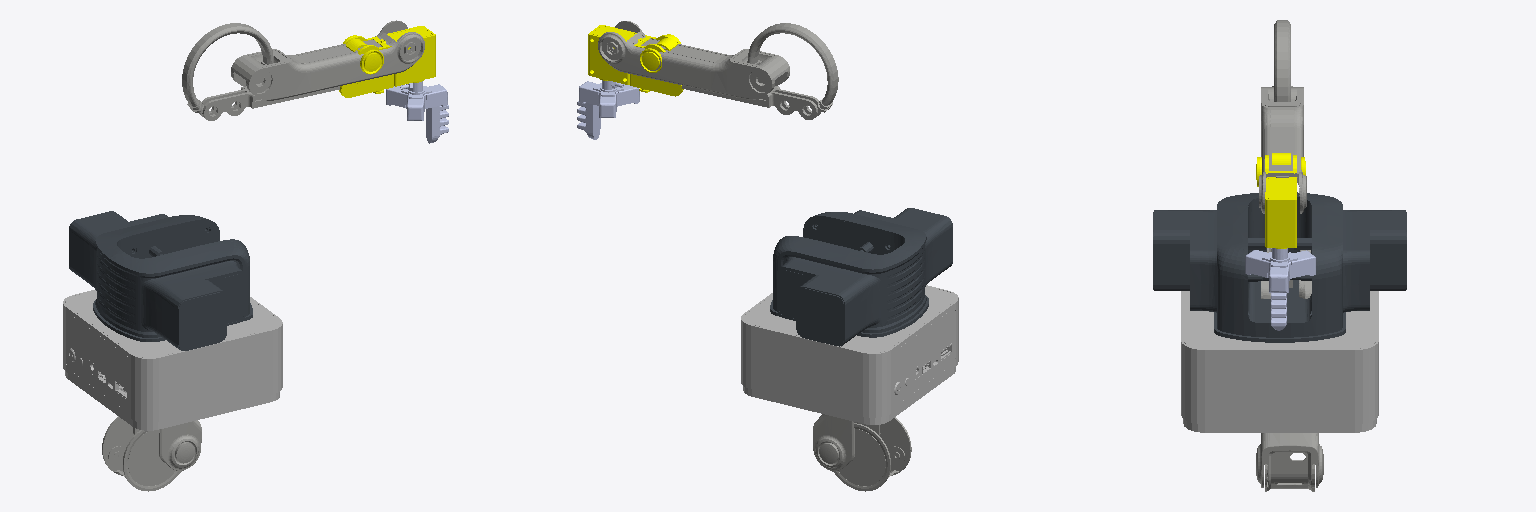
URDF robot description (dobot_magician_lite):
<?xml version="1.0" encoding="utf-8"?>
<!-- This URDF was automatically created by SolidWorks to URDF Exporter! Originally created by [author] ([email redacted]) 
     Commit Version: 1.6.0-4-g7f85cfe  Build Version: 1.6.7995.38578
     For more information, please see http://wiki.ros.org/sw_urdf_exporter -->
<robot
  name="dobot_magician_lite">

  <link name="world"/>
  <joint name="base_joint" type="fixed">
  	<parent link="world"/>
	  <child link="base_link"/>
	  <origin rpy="0 0 0" xyz="0.0 0.0 0.17"/>
  </joint>

  <link
    name="base_link">
    <inertial>
      <origin
        xyz="1.5965E-05 -0.000104 0.027713"
        rpy="0 0 0" />
      <mass
        value="0.39676" />
      <inertia
        ixx="0.00094204"
        ixy="2.2751E-07"
        ixz="2.492E-06"
        iyy="0.00091408"
        iyz="-2.4031E-07"
        izz="0.0017912" />
    </inertial>
    <visual>
      <origin
        xyz="0 0 0"
        rpy="0 0 0" />
      <geometry>
        <mesh
          filename="package://dobot_magician_lite/meshes/base_link.STL" />
      </geometry>
      <material
        name="">
        <color
          rgba="0.75294 0.75294 0.75294 1" />
      </material>
    </visual>
    <collision>
      <origin
        xyz="0 0 0"
        rpy="0 0 0" />
      <geometry>
        <mesh
          filename="package://dobot_magician_lite/meshes/base_link.STL" />
      </geometry>
    </collision>
  </link>
  <link
    name="link_1">
    <inertial>
      <origin
        xyz="-0.00632806257105688 -3.31801388174791E-05 0.0201647105596084"
        rpy="0 0 0" />
      <mass
        value="0.146982965690402" />
      <inertia
        ixx="0.000122805302630179"
        ixy="1.54789979781778E-07"
        ixz="6.04921358002462E-06"
        iyy="0.000245891381662071"
        iyz="2.62119117064098E-08"
        izz="0.000251546860925818" />
    </inertial>
    <visual>
      <origin
        xyz="0 0 0"
        rpy="0 0 0" />
      <geometry>
        <mesh
          filename="package://dobot_magician_lite/meshes/link_1.STL" />
      </geometry>
      <material
        name="">
        <color
          rgba="0.305882352941176 0.333333333333333 0.36078431372549 1" />
      </material>
    </visual>
    <collision>
      <origin
        xyz="0 0 0"
        rpy="0 0 0" />
      <geometry>
        <mesh
          filename="package://dobot_magician_lite/meshes/link_1.STL" />
      </geometry>
    </collision>
  </link>
  <joint
    name="joint_1"
    type="revolute">
    <origin
      xyz="0 0 0.085703"
      rpy="0 0 0" />
    <parent
      link="base_link" />
    <child
      link="link_1" />
    <axis
      xyz="0 0 -1" />
    <limit
      lower="0" 
      upper="2.356"
      effort="1"
      velocity="1" />
  </joint>
  <link
    name="link_2">
    <inertial>
      <origin
        xyz="-0.0129259789896202 -0.100188519337276 -0.00738098214756541"
        rpy="0 0 0" />
      <mass
        value="0.0847981604416596" />
      <inertia
        ixx="0.000159144236247681"
        ixy="4.58600282399557E-06"
        ixz="4.5257068578127E-08"
        iyy="2.64058395142776E-05"
        iyz="-2.01848031295547E-07"
        izz="0.000155616168533719" />
    </inertial>
    <visual>
      <origin
        xyz="0 0 0"
        rpy="0 0 0" />
      <geometry>
        <mesh
          filename="package://dobot_magician_lite/meshes/link_2.STL" />
      </geometry>
      <material
        name="">
        <color
          rgba="0.666666666666667 0.666666666666667 0.654901960784314 1" />
      </material>
    </visual>
    <collision>
      <origin
        xyz="0 0 0"
        rpy="0 0 0" />
      <geometry>
        <mesh
          filename="package://dobot_magician_lite/meshes/link_2.STL" />
      </geometry>
    </collision>
  </link>
  <joint
    name="joint_2"
    type="revolute">
    <origin
      xyz="0.02 0.0075 0.019"
      rpy="-1.5708 0 0" />
    <parent
      link="link_1" />
    <child
      link="link_2" />
    <axis
      xyz="0 0 1" />
    <limit
      lower="-1.396"
      upper="0.087"
      effort="1"
      velocity="1" />
  </joint>
  <link
    name="link_3">
    <inertial>
      <origin
        xyz="0.0735750146583276 -0.0160189994813653 -0.00194416428274072"
        rpy="0 0 0" />
      <mass
        value="0.0607373775384603" />
      <inertia
        ixx="1.21952829220814E-05"
        ixy="-3.76588423518965E-06"
        ixz="-1.04148922176665E-09"
        iyy="0.000152901164901591"
        iyz="2.93034644058927E-10"
        izz="0.000152068939328258" />
    </inertial>
    <visual>
      <origin
        xyz="0 0 0"
        rpy="0 0 0" />
      <geometry>
        <mesh
          filename="package://dobot_magician_lite/meshes/link_3.STL" />
      </geometry>
      <material
        name="">
        <color
          rgba="0.666666666666667 0.666666666666667 0.654901960784314 1" />
      </material>
    </visual>
    <collision>
      <origin
        xyz="0 0 0"
        rpy="0 0 0" />
      <geometry>
        <mesh
          filename="package://dobot_magician_lite/meshes/link_3.STL" />
      </geometry>
    </collision>
  </link>
  <joint
    name="joint_3"
    type="revolute">
    <origin
      xyz="0.0021748 -0.14998 -0.0055"
      rpy="0 0 0" />
    <parent
      link="link_2" />
    <child
      link="link_3" />
    <axis
      xyz="0 0 1" />
    <limit
      lower="-1.4835"
      upper="0.1745"
      effort="1"
      velocity="1" />
  </joint>
  <link
    name="link_4">
    <inertial>
      <origin
        xyz="0.0441918650232163 -0.00967000419225683 -0.00105010084740254"
        rpy="0 0 0" />
      <mass
        value="0.0429910062715709" />
      <inertia
        ixx="6.0328417087413E-06"
        ixy="1.35266665470492E-06"
        ixz="2.21570301381979E-08"
        iyy="9.5045594783501E-06"
        iyz="1.98921678685953E-08"
        izz="1.45845062272137E-05" />
    </inertial>
    <visual>
      <origin
        xyz="0 0 0"
        rpy="0 0 0" />
      <geometry>
        <mesh
          filename="package://dobot_magician_lite/meshes/link_4.STL" />
      </geometry>
      <material
        name="">
        <color
          rgba="1 1 0 1" />
      </material>
    </visual>
    <collision>
      <origin
        xyz="0 0 0"
        rpy="0 0 0" />
      <geometry>
        <mesh
          filename="package://dobot_magician_lite/meshes/link_4.STL" />
      </geometry>
    </collision>
  </link>
  <joint
    name="joint_4"
    type="revolute">
    <origin
      xyz="0.14998 0.002171 -0.001"
      rpy="0 0 0" />
    <parent
      link="link_3" />
    <child
      link="link_4" />
    <axis
      xyz="0 0 1" />
    <limit
      lower="-1.4835"
      upper="0.1745"
      effort="1"
      velocity="1" />
  </joint>

  <!-- <joint
    name="joint_4"
    type="revolute">
    <origin
      xyz="0.14998 0.002171 -0.001"
      rpy="0 0 0" />
    <parent
      link="link_3" />
    <child
      link="link_4" />
    <axis
      xyz="0 0 1" />
    <limit
      lower="-1.265"
      upper="1.265"
      effort="1"
      velocity="1" />
  </joint> -->
  <link
    name="E.E.">
    <inertial>
      <origin
        xyz="-3.41946400861382E-05 1.35161289040175E-06 -0.0334264733888865"
        rpy="0 0 0" />
      <mass
        value="0.0295949456598662" />
      <inertia
        ixx="4.23783880472958E-06"
        ixy="-6.50062203686924E-11"
        ixz="5.6868580888995E-10"
        iyy="4.23619744666409E-06"
        iyz="-2.23929910477255E-11"
        izz="1.02675645882584E-06" />
    </inertial>
    <visual>
      <origin
        xyz="0 0 0"
        rpy="0 0 0" />
      <geometry>
        <mesh
          filename="package://dobot_magician_lite/meshes/E.E..STL" />
      </geometry>
      <material
        name="">
        <color
          rgba="0.792156862745098 0.819607843137255 0.933333333333333 1" />
      </material>
    </visual>
    <collision>
      <origin
        xyz="0 0 0"
        rpy="0 0 0" />
      <geometry>
        <mesh
          filename="package://dobot_magician_lite/meshes/E.E..STL" />
      </geometry>
    </collision>
  </link>
  <joint
    name="joint_5"
    type="revolute">
    <origin
      xyz="0.07295 0.0126 -0.001"
      rpy="1.5708 0 0" />
    <parent
      link="link_4" />
    <child
      link="E.E." />
    <axis
      xyz="0 0 1" />
    <limit
      lower="-3.142"
      upper="3.142"
      effort="1"
      velocity="1" />
  </joint>

  <transmission name="link_1_trans">
    <type>transmission_interface/SimpleTransmission</type>
    <joint name="joint_1">
    	<hardwareInterface>hardware_interface/PositionJointInterface</hardwareInterface>
    </joint>
    <actuator name="link_1_motor">
	<hardwareInterface>hardware_interface/PositionJointInterface</hardwareInterface> 		
	<mechanicalReduction>1</mechanicalReduction>
    </actuator>
  </transmission>
  
  <transmission name="link_2_trans">
    <type>transmission_interface/SimpleTransmission</type>
    <joint name="joint_2">
    	<hardwareInterface>hardware_interface/PositionJointInterface</hardwareInterface>
    </joint>
    <actuator name="link_2_motor">
	<hardwareInterface>hardware_interface/PositionJointInterface</hardwareInterface> 		
	<mechanicalReduction>1</mechanicalReduction>
    </actuator>
  </transmission>
  
  <transmission name="link_3_trans">
    <type>transmission_interface/SimpleTransmission</type>
    <joint name="joint_3">
    	<hardwareInterface>hardware_interface/PositionJointInterface</hardwareInterface>
    </joint>
    <actuator name="link_3_motor">
	<hardwareInterface>hardware_interface/PositionJointInterface</hardwareInterface> 		
	<mechanicalReduction>1</mechanicalReduction>
    </actuator>
  </transmission>
  
  <transmission name="link_4_trans">
    <type>transmission_interface/SimpleTransmission</type>
    <joint name="joint_4">
    	<hardwareInterface>hardware_interface/PositionJointInterface</hardwareInterface>
    </joint>
    <actuator name="link_4_motor">
	<hardwareInterface>hardware_interface/PositionJointInterface</hardwareInterface> 		
	<mechanicalReduction>1</mechanicalReduction>
    </actuator>
  </transmission>
  
  <transmission name="link_5_trans">
    <type>transmission_interface/SimpleTransmission</type>
    <joint name="joint_5">
    	<hardwareInterface>hardware_interface/PositionJointInterface</hardwareInterface>
    </joint>
    <actuator name="link_5_motor">
	<hardwareInterface>hardware_interface/PositionJointInterface</hardwareInterface> 		
	<mechanicalReduction>1</mechanicalReduction>
    </actuator>
  </transmission>
  
  <gazebo>
    <plugin name="control" filename="libgazebo_ros_control.so">
  	<robotNamespace>/</robotNamespace>
    </plugin>
  </gazebo>
  
  <gazebo reference="link_1">
    <selfCollide>true</selfCollide>
  </gazebo>
  
  <gazebo reference="link_2">
    <selfCollide>true</selfCollide>
  </gazebo>
  
  <gazebo reference="link_3">
    <selfCollide>true</selfCollide>
  </gazebo>
  
  <gazebo reference="link_4">
    <selfCollide>true</selfCollide>
  </gazebo>

  <gazebo reference="E.E.">
    <selfCollide>true</selfCollide>
  </gazebo>
</robot>

--- What the picture shows (computed from the rendered views, not written in the file) ---
Views: 3 orthographic renders of the robot side by side, from view 1: azimuth 30°, elevation 25°; view 2: azimuth 150°, elevation 25°; view 3: azimuth 270°, elevation 25°.
Robot: dobot_magician_lite — 7 links, 6 joints (5 revolute, 1 fixed); root link world; default pose: all joints at 0.
Visible links, largest first — view 1: link_1, base_link, link_3, link_2, link_4, E.E.; view 2: link_1, base_link, link_3, link_2, link_4, E.E.; view 3: link_1, base_link, link_3, link_2, link_4, E.E..
Link boxes in pixels (box(x1,y1,x2,y2)): link_1: box(69, 211, 252, 350); base_link: box(63, 290, 282, 430); link_3: box(182, 20, 424, 120); link_2: box(102, 416, 201, 491); link_4: box(339, 26, 435, 97); E.E.: box(386, 81, 448, 143); link_1: box(770, 208, 952, 346); base_link: box(741, 285, 958, 424); link_3: box(598, 21, 838, 119); link_2: box(813, 414, 911, 491); link_4: box(588, 25, 683, 96); E.E.: box(577, 80, 639, 139); link_1: box(1153, 192, 1406, 342); base_link: box(1181, 291, 1378, 432); link_3: box(1259, 20, 1306, 213); link_2: box(1256, 248, 1323, 491); link_4: box(1256, 153, 1305, 248); E.E.: box(1245, 248, 1315, 330).
Size in the robot's own frame: 0.3506 by 0.192 by 0.4226 metres.
Meshes: 6 distinct files referenced, 6 mesh visuals loaded (6 binary STL).
